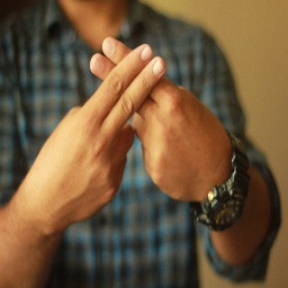F: (57, 20, 192, 164)
